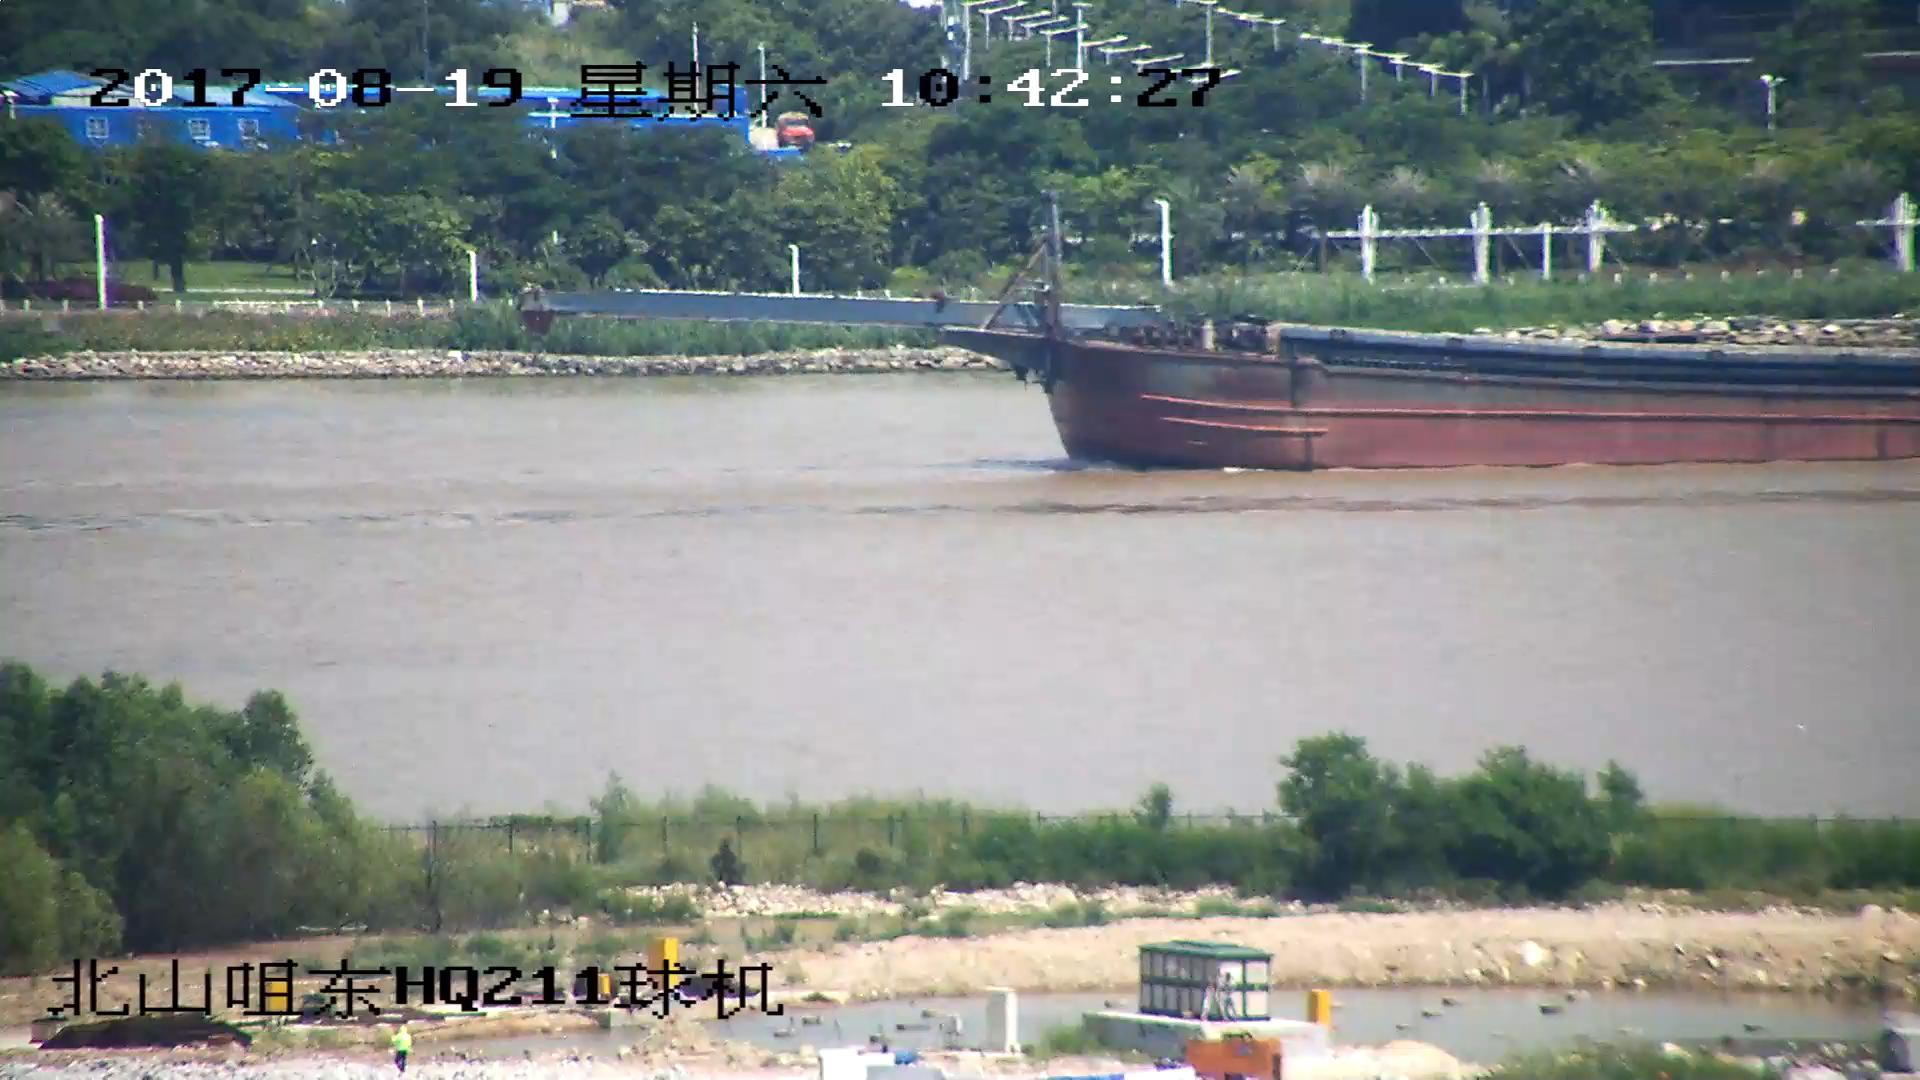bulk cargo carrier: (521, 195, 1920, 470)
